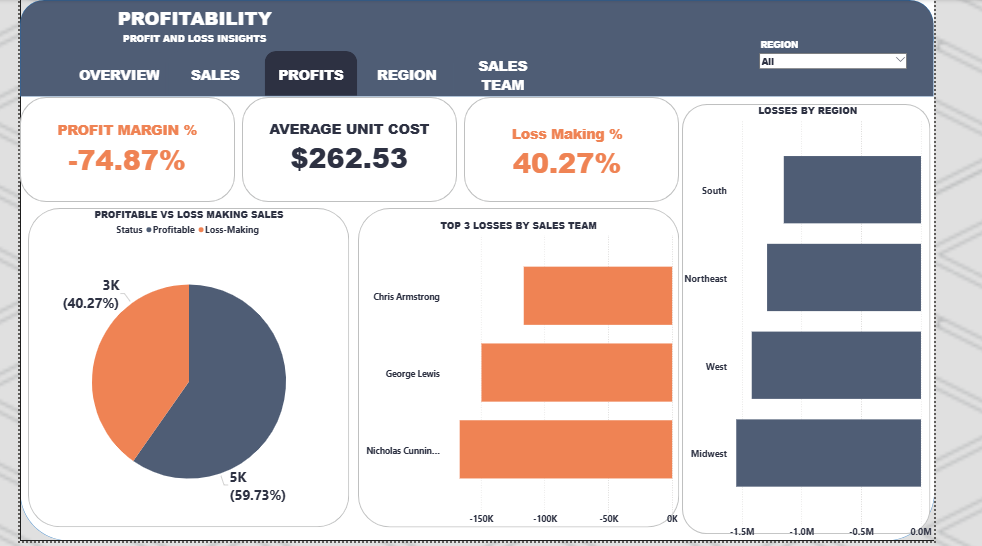

This screenshot's page, from the dashboard's own definition file:
{"tool":"powerbi","page":{"name":"PROFITS","canvas":[1280,720],"ordinal":2},"visuals":[{"type":"shape","box":[0,0,1280.2,720],"z":0},{"type":"textbox","title":"PROFITABILITY","box":[62.7,19.4,337.6,73.2],"z":1000},{"type":"shape","box":[4.5,109,249.5,180.7],"z":2000},{"type":"shape","box":[255.4,112,249.5,180.7],"z":3000},{"type":"shape","box":[494.4,109,251,180.7],"z":4000},{"type":"shape","box":[765,91.7,508.3,628.3],"z":5000},{"type":"shape","box":[4.5,289.8,376.4,430.2],"z":6000},{"type":"shape","box":[380.9,289.8,376.4,430.2],"z":7000},{"type":"cardVisual","fields":{"Data":["My measures.PROFIT MARGIN %"]},"box":[0,153.9,259.9,149.4],"z":8000},{"type":"cardVisual","fields":{"Data":["My measures.Loss Making %"]},"box":[237.5,153.9,286.8,149.4],"z":9000},{"type":"cardVisual","fields":{"Data":["My measures.AUC"]},"box":[509,128,220,150],"z":10000},{"type":"barChart","title":"LOSSES BY REGION","fields":{"Category":["sales_team_usa.Region","store_sales_usa.State","store_sales_usa.City Name"],"Y":["Sum(sales_order_usa.total profit)"]},"box":[765,108.3,461.7,593.3],"z":11000},{"type":"pieChart","title":"PROFITABLE VS LOSS MAKING SALES","fields":{"Category":["Profit Status.Status"],"Y":["Profit Status.Sales Status Count"]},"box":[16.4,324.1,351,395.9],"z":12000},{"type":"barChart","title":"TOP 3 LOSSES BY SALES TEAM","fields":{"Category":["sales_team_usa.Sales Team"],"Y":["Sum(sales_order_usa.total profit)"]},"box":[400.7,302.7,344.9,399],"z":13000},{"type":"slicer","fields":{"Values":["store_sales_usa.Sales Channel"]},"box":[1018.8,0,228.5,61.2],"z":14000},{"type":"pageNavigator","box":[442.2,40.3,554.2,52.3],"z":15000},{"type":"image","box":[101.6,125.5,182.2,83.7],"z":16000},{"type":"image","box":[343.6,112,210.6,97.1],"z":17000},{"type":"image","box":[91.1,504.9,203.2,97.1],"z":18000}]}

Visuals, with their boxes in screenshot pixels (x1, y1, x2, y2), scaled from the page's 1280x720 canvas onto the 982x546 screenshot:
shape: region(0, 0, 981, 545)
"PROFITABILITY" textbox: region(48, 15, 307, 70)
shape: region(3, 83, 195, 220)
shape: region(196, 85, 387, 222)
shape: region(379, 83, 572, 220)
shape: region(587, 70, 977, 545)
shape: region(3, 220, 292, 545)
shape: region(292, 220, 581, 545)
cardVisual - My measures.PROFIT MARGIN %: region(0, 117, 199, 230)
cardVisual - My measures.Loss Making %: region(182, 117, 402, 230)
cardVisual - My measures.AUC: region(390, 97, 559, 211)
"LOSSES BY REGION" barChart: region(587, 82, 941, 532)
"PROFITABLE VS LOSS MAKING SALES" pieChart: region(13, 246, 282, 545)
"TOP 3 LOSSES BY SALES TEAM" barChart: region(307, 230, 572, 532)
slicer - store_sales_usa.Sales Channel: region(782, 0, 957, 46)
pageNavigator: region(339, 31, 764, 70)
image: region(78, 95, 218, 159)
image: region(264, 85, 425, 159)
image: region(70, 383, 226, 457)
